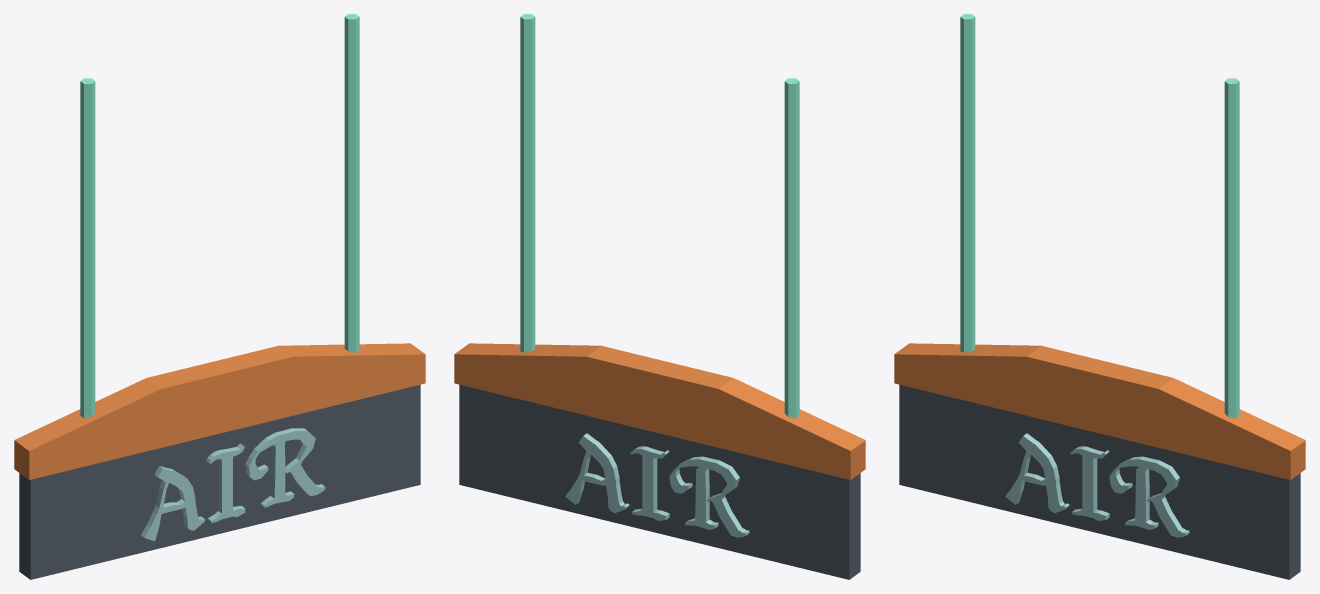
The model's file is StoreSigns.fbx_Air.fbx.
The picture shows the model from 3 angles, left to right: view 1: azimuth 30°, elevation 25°; view 2: azimuth 150°, elevation 25°; view 3: azimuth 330°, elevation 25°; orthographic projection.
Parts seen in each view (by area): view 1: Air; view 2: Air; view 3: Air.
Part boxes in pixels (box(x1,y1,x2,y2)): Air: box(14, 14, 425, 579); Air: box(454, 14, 865, 579); Air: box(894, 14, 1305, 579).
Bounding box in the file's own units: 52 × 610 × 705.
